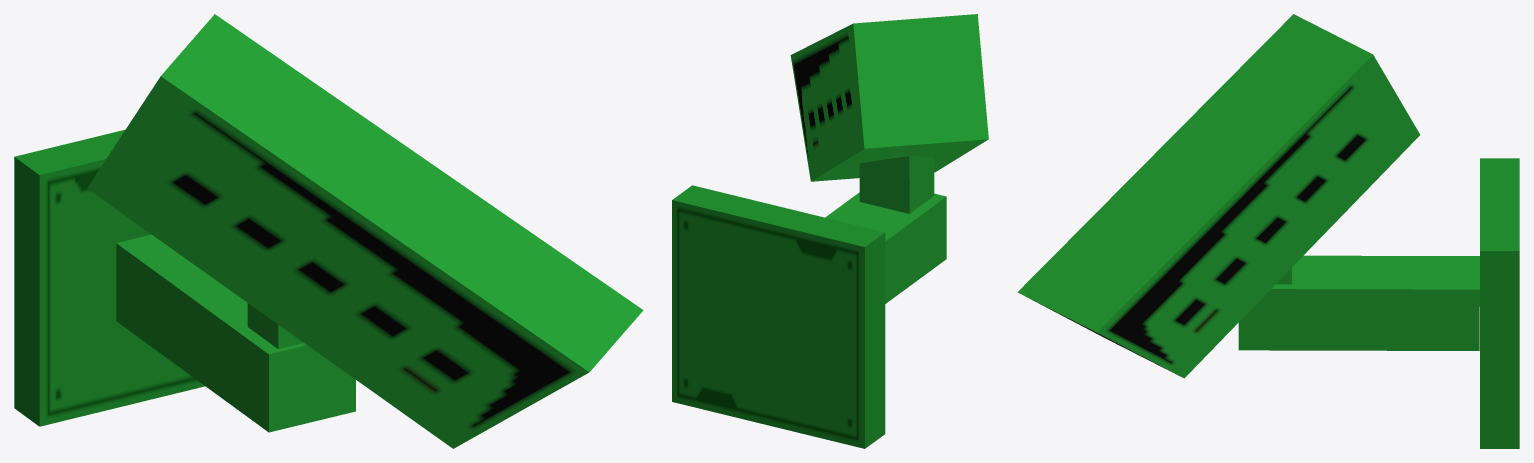
Rendered from Appliance_4.fbx.
The picture shows the model from 3 angles, left to right: view 1: azimuth 30°, elevation 25°; view 2: azimuth 150°, elevation 25°; view 3: azimuth 270°, elevation 25°; orthographic projection. The views are drawn at different scales.
Parts seen in each view (by area): view 1: Appliance.052; view 2: Appliance.052; view 3: Appliance.052.
Boxes of the visible parts, <box> form: Appliance.052: <box>14,14,643,448</box>; Appliance.052: <box>672,14,988,448</box>; Appliance.052: <box>1017,14,1519,448</box>.
Size of the model in its own units: 36.78 by 38.17 by 50.54.
